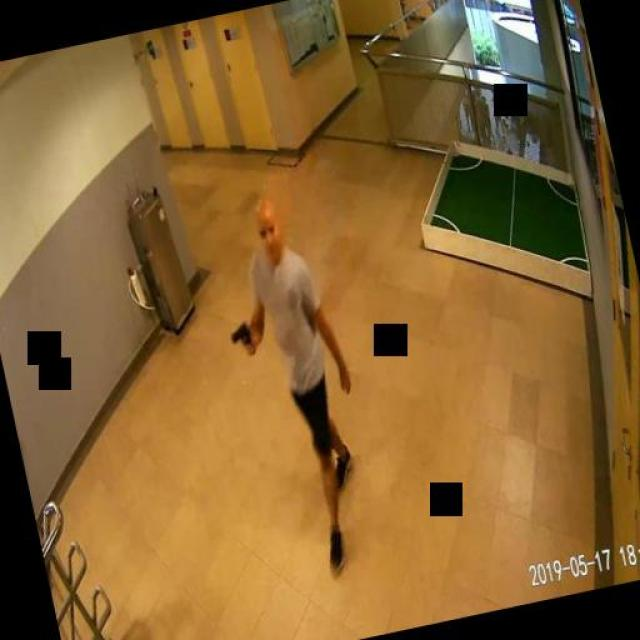gun: (226, 318, 254, 357)
